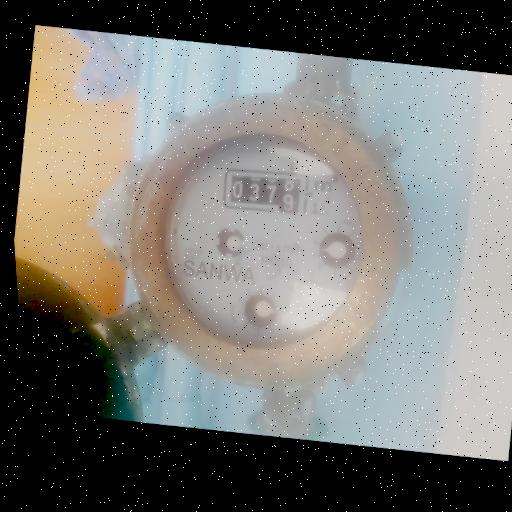0: (227, 174, 248, 204)
3: (242, 174, 265, 205)
7: (258, 175, 283, 207)
8: (275, 176, 303, 215)
border_water_meter_number: (218, 160, 312, 222)
